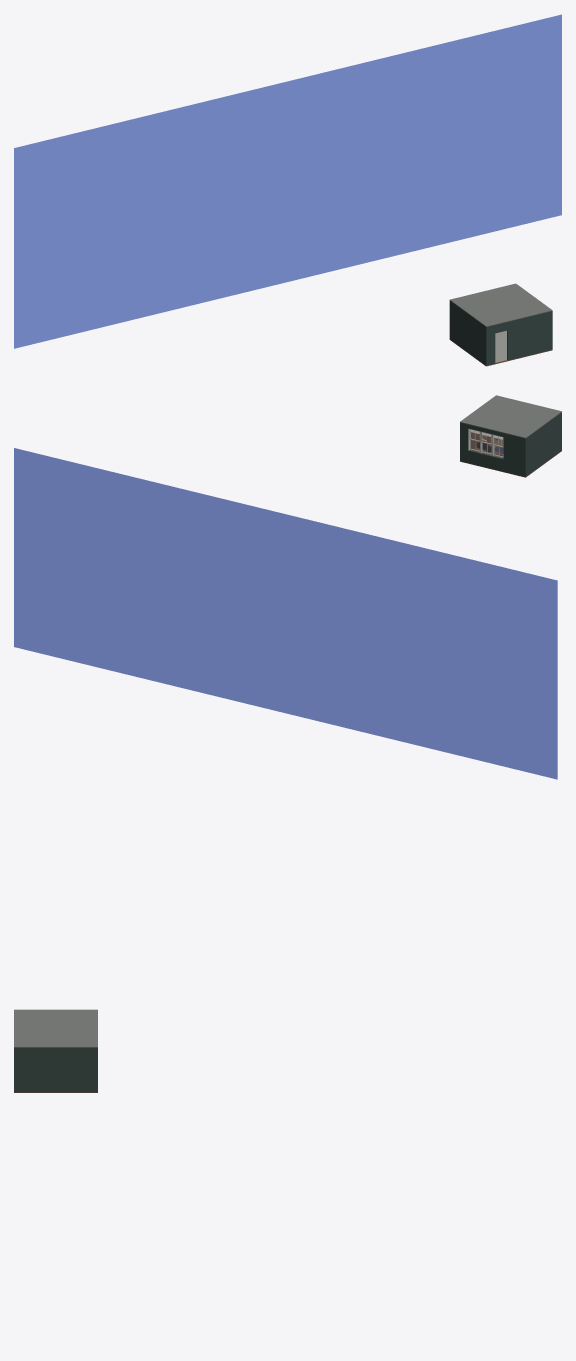
Rendered from room.glb.
The picture shows the model from 3 angles, top to bottom: view 1: azimuth 30°, elevation 25°; view 2: azimuth 150°, elevation 25°; view 3: azimuth 270°, elevation 25°; orthographic projection. The views are drawn at different scales.
Parts seen in each view (by area): view 1: City_Card, Ceiling, Wall_S_b, Wall_W; view 2: City_Card, Ceiling, Wall_W, Wall_N_w, Wall_N_sill; view 3: Wall_E, Ceiling.
Part boxes in pixels (left/top/right/bottom): City_Card: left=14, top=14, right=561, bottom=348; Ceiling: left=450, top=283, right=552, bottom=326; Wall_S_b: left=507, top=311, right=550, bottom=360; Wall_W: left=449, top=300, right=487, bottom=365; City_Card: left=14, top=448, right=557, bottom=779; Ceiling: left=460, top=395, right=561, bottom=438; Wall_W: left=524, top=412, right=561, bottom=476; Wall_N_w: left=503, top=433, right=523, bottom=476; Wall_N_sill: left=468, top=450, right=503, bottom=471; Wall_E: left=14, top=1047, right=97, bottom=1092; Ceiling: left=14, top=1009, right=97, bottom=1047.
Size of the model in its own units: 40 by 14 by 30.12.
